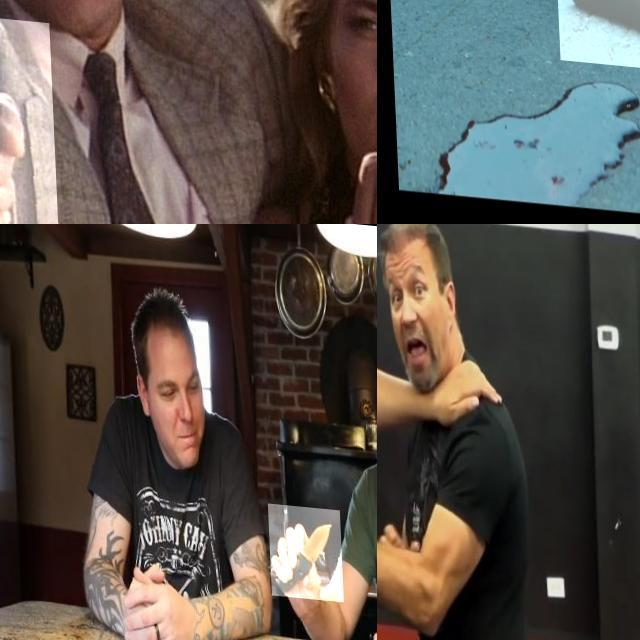-: (265, 498, 340, 595)
gun-knife-thesis - v11 Yolov5 augmented: (0, 9, 71, 224)
